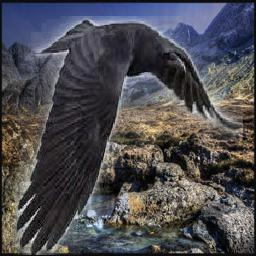Crow: (15, 17, 243, 256)
